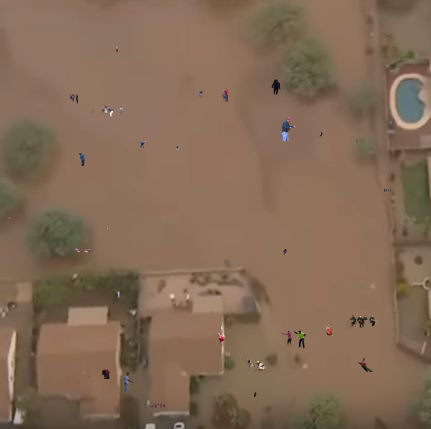Human: (343, 314, 376, 329), (281, 330, 306, 349), (91, 104, 123, 118), (199, 89, 228, 103), (281, 117, 297, 141), (213, 326, 225, 353), (85, 367, 110, 379), (246, 359, 267, 372), (358, 358, 373, 372), (124, 372, 134, 393), (271, 79, 281, 95), (64, 94, 78, 104), (75, 247, 91, 253), (326, 324, 333, 336), (79, 153, 85, 166), (151, 403, 165, 408), (318, 132, 330, 137), (140, 141, 147, 149), (254, 392, 261, 397), (116, 291, 120, 298), (384, 188, 391, 192), (283, 249, 287, 255), (105, 227, 111, 231), (176, 145, 179, 152), (8, 216, 13, 220), (116, 46, 118, 53), (355, 139, 359, 142)
